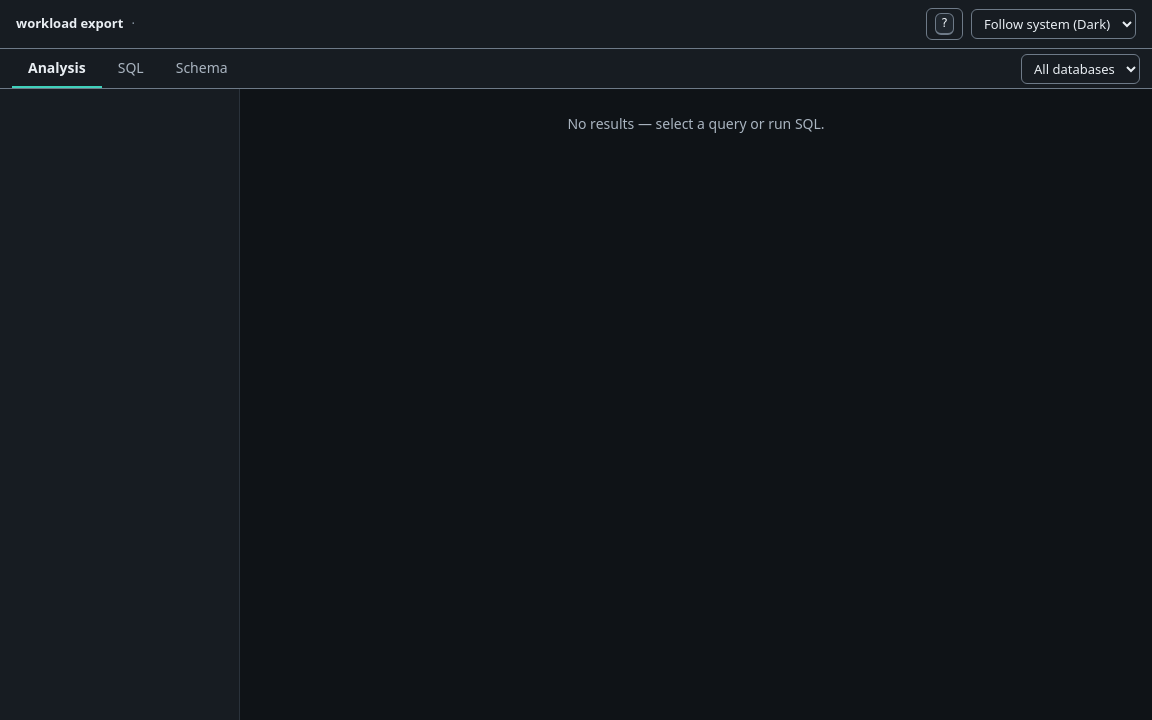
Test: App database picker per tab › switches back to the filter picker with "All databases" on the Analysis tab
Step 1. Click the tab "Schema" → [202, 69], box x1=160 y1=49 x2=244 y2=88
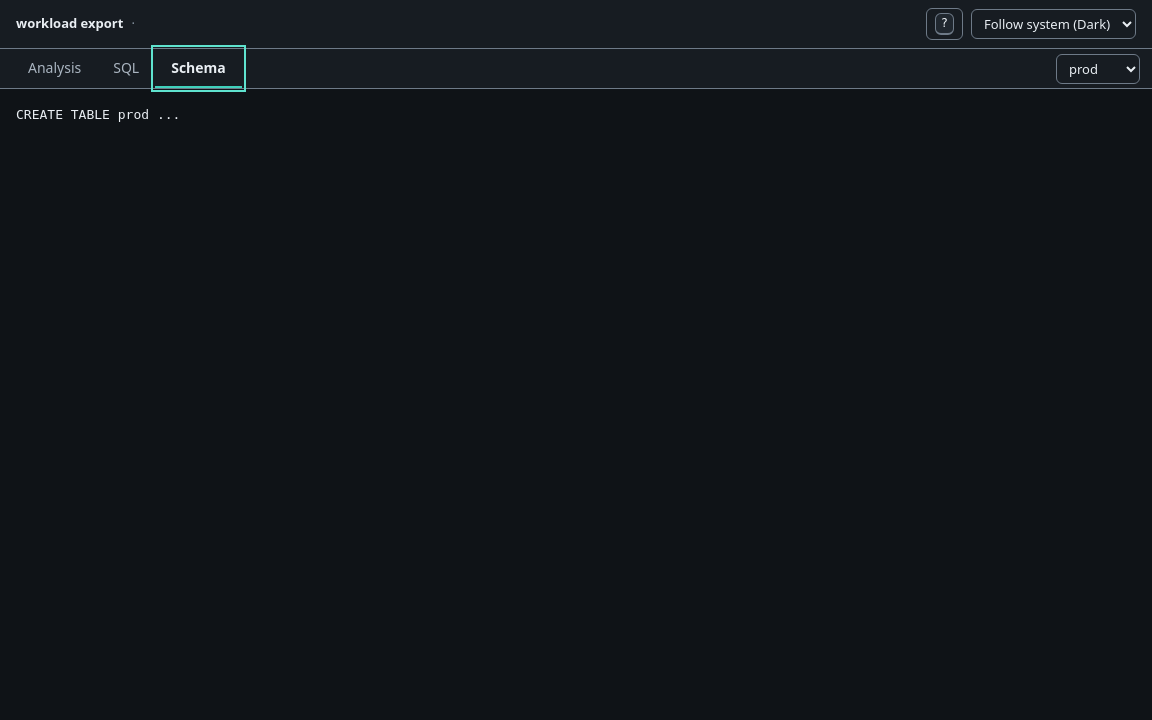
Expected: the dropdown named "Select database schema" is shown, x1=1056 y1=54 x2=1140 y2=84
Step 2. Click the tab "Analysis" → [55, 69], box x1=12 y1=49 x2=97 y2=88
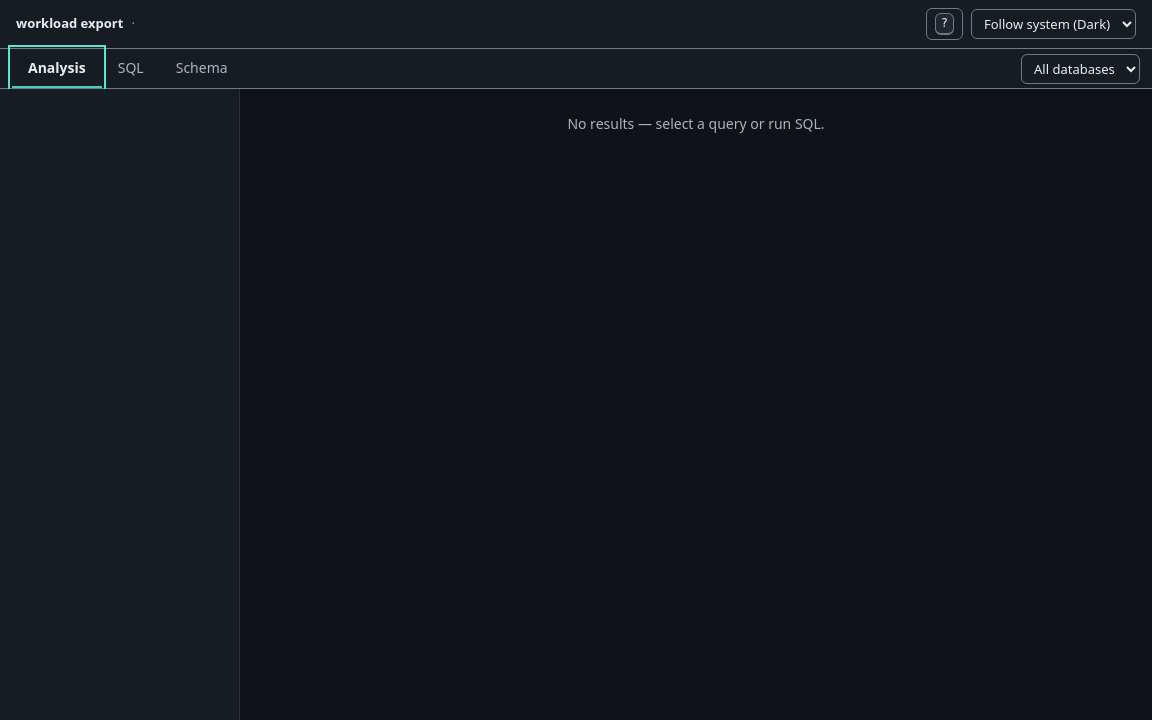
Expected: the dropdown named "Filter by database" is shown, x1=1021 y1=54 x2=1140 y2=84
